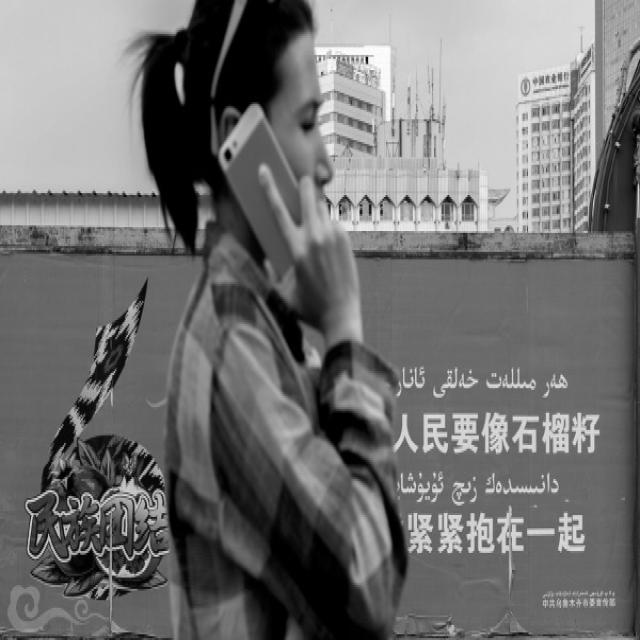phone: (209, 89, 373, 326)
